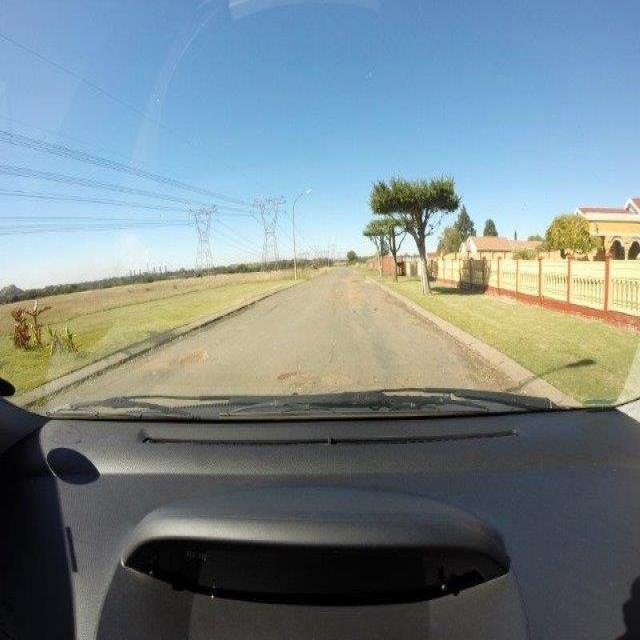lubang: (272, 366, 306, 391), (176, 349, 216, 367)
